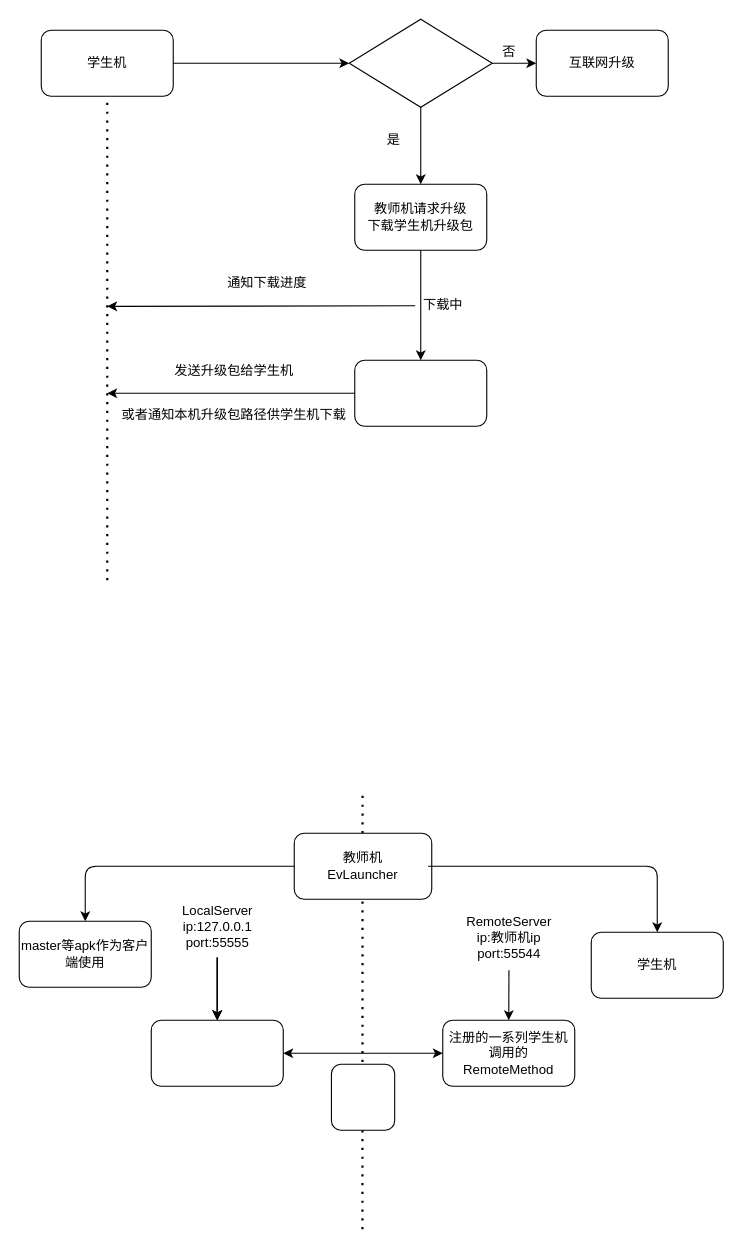
This 743x1251 diagram has some shape labels left out. Here are the shapes that lost their labels. From the top down, the centre of each, then its label:
At pixel 420 62: "是否存在教师机".
At pixel 420 392: "下载完成".
At pixel 216 1052: "注册的一系列供本地apk调用的LocalMethod".
At pixel 362 1096: "互相调用通知".
